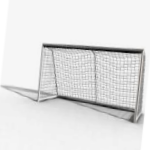goals: (35, 41, 146, 125)
